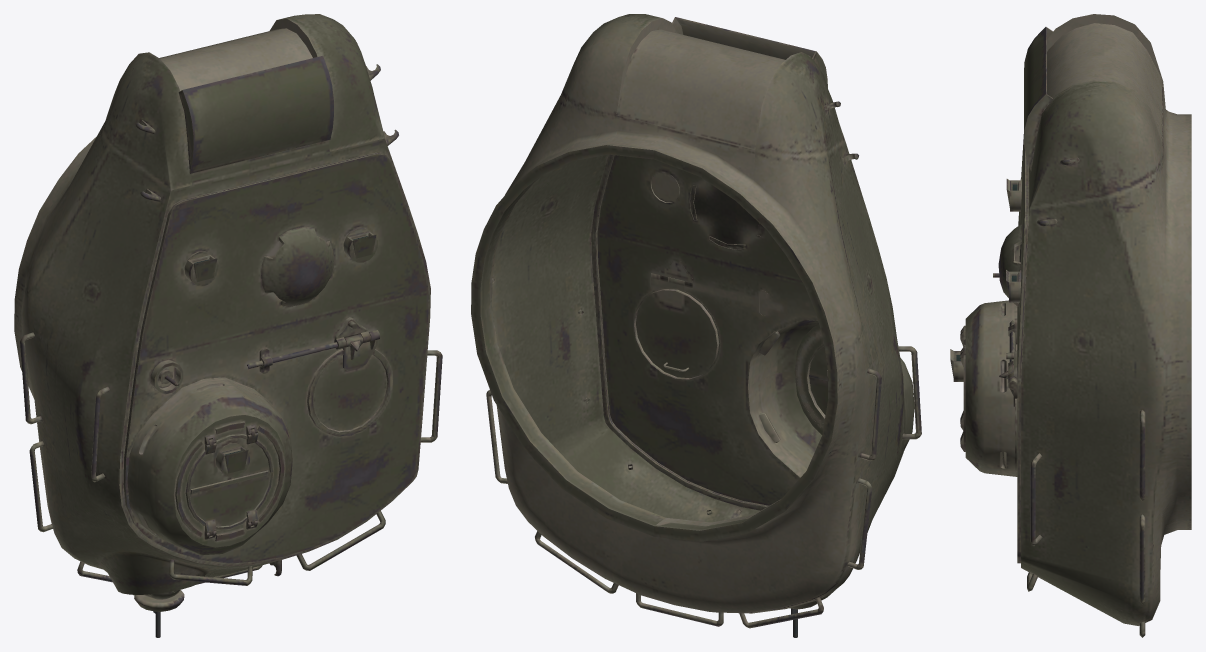
Rendered from Turret_02.glb.
The picture shows the model from 3 angles, left to right: view 1: azimuth 30°, elevation 25°; view 2: azimuth 150°, elevation 25°; view 3: azimuth 270°, elevation 25°; orthographic projection. The views are drawn at different scales.
Parts seen in each view (by area): view 1: set_0_group_0; view 2: set_0_group_0; view 3: set_0_group_0.
Boxes of the visible parts, x1,y1,x2,y2 form: set_0_group_0: [14, 14, 442, 637]; set_0_group_0: [471, 14, 921, 637]; set_0_group_0: [950, 14, 1191, 637].
Bounding box in the file's own units: 2.38 × 3.27 × 1.25.
1 material, 1 textured.
